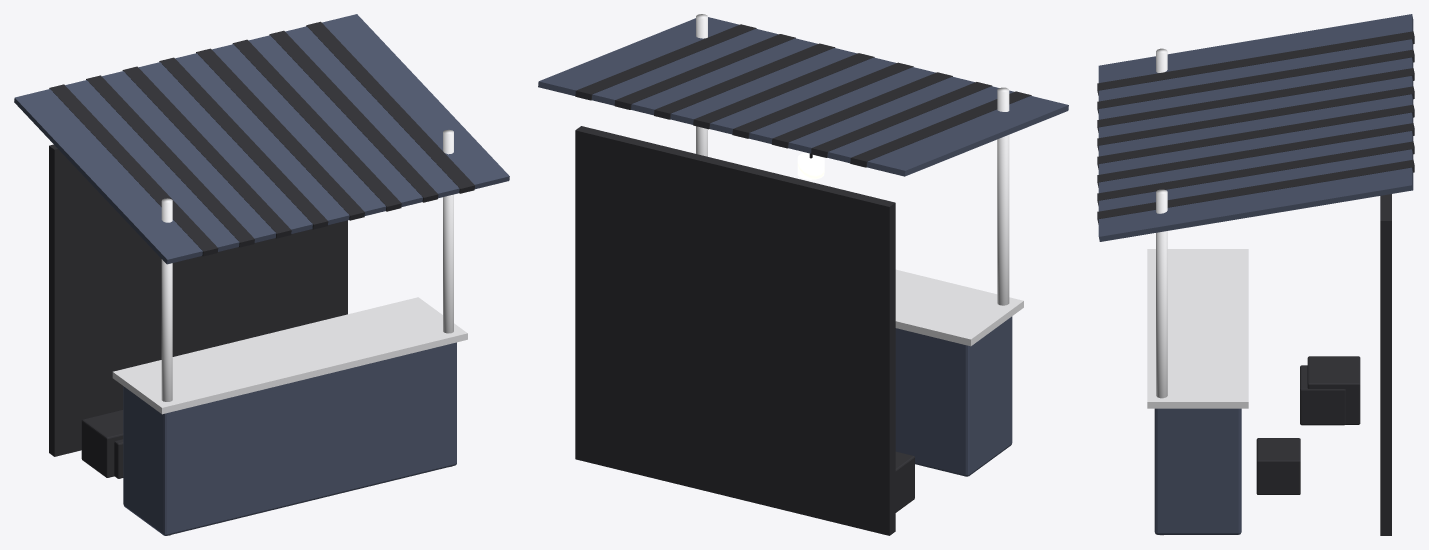
The model's file is SM_Stall15.fbx.
The picture shows the model from 3 angles, left to right: view 1: azimuth 30°, elevation 25°; view 2: azimuth 150°, elevation 25°; view 3: azimuth 270°, elevation 25°; orthographic projection. The views are drawn at different scales.
Visible parts, largest first — view 1: SM_Stall15; view 2: SM_Stall15; view 3: SM_Stall15.
Part boxes in pixels (x1,y1,x2,y2): SM_Stall15: [14, 14, 509, 535]; SM_Stall15: [538, 14, 1068, 535]; SM_Stall15: [1097, 14, 1414, 535].
Size of the model in its own units: 2.19 by 2.8 by 2.77.
